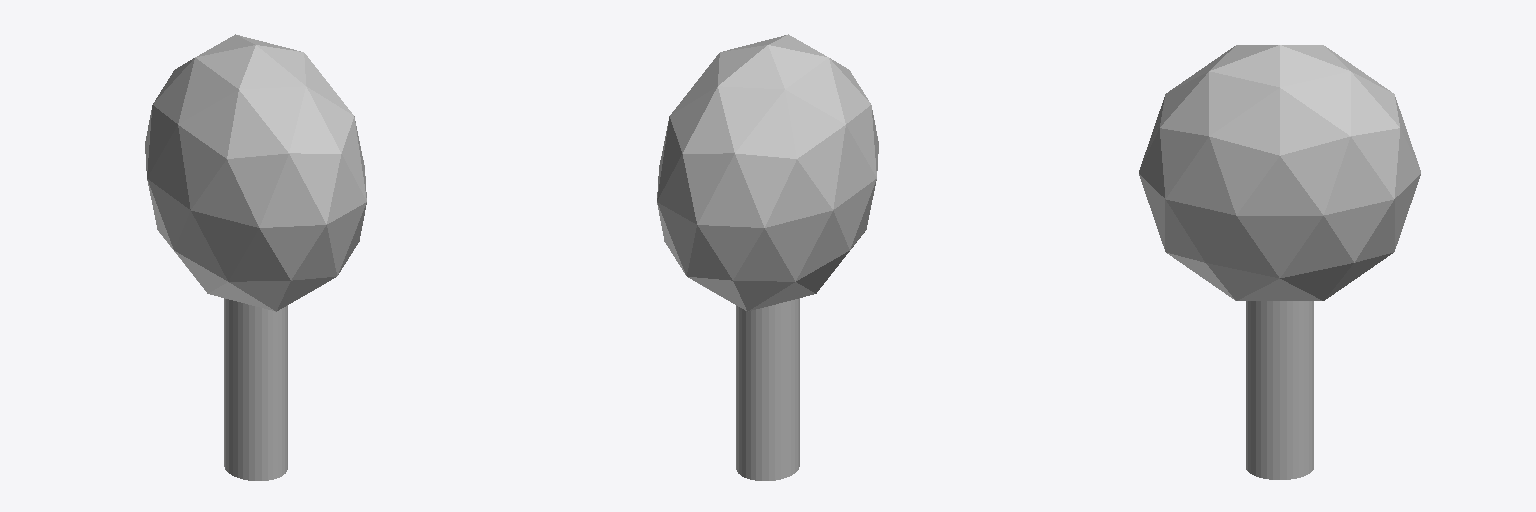
File: tree_demo0.obj
The picture shows the model from 3 angles: view 1: azimuth 30°, elevation 25°; view 2: azimuth 150°, elevation 25°; view 3: azimuth 270°, elevation 25°; orthographic projection.
Parts seen in each view (by area): view 1: Icosphere, Cylinder; view 2: Icosphere, Cylinder; view 3: Icosphere, Cylinder.
Boxes of the visible parts, x1,y1,x2,y2 form: Icosphere: [145, 34, 366, 311]; Cylinder: [224, 298, 287, 480]; Icosphere: [657, 34, 878, 311]; Cylinder: [736, 298, 799, 480]; Icosphere: [1139, 45, 1420, 300]; Cylinder: [1246, 301, 1313, 479].
Bounding box in the file's own units: 4.04 × 9.36 × 5.69.